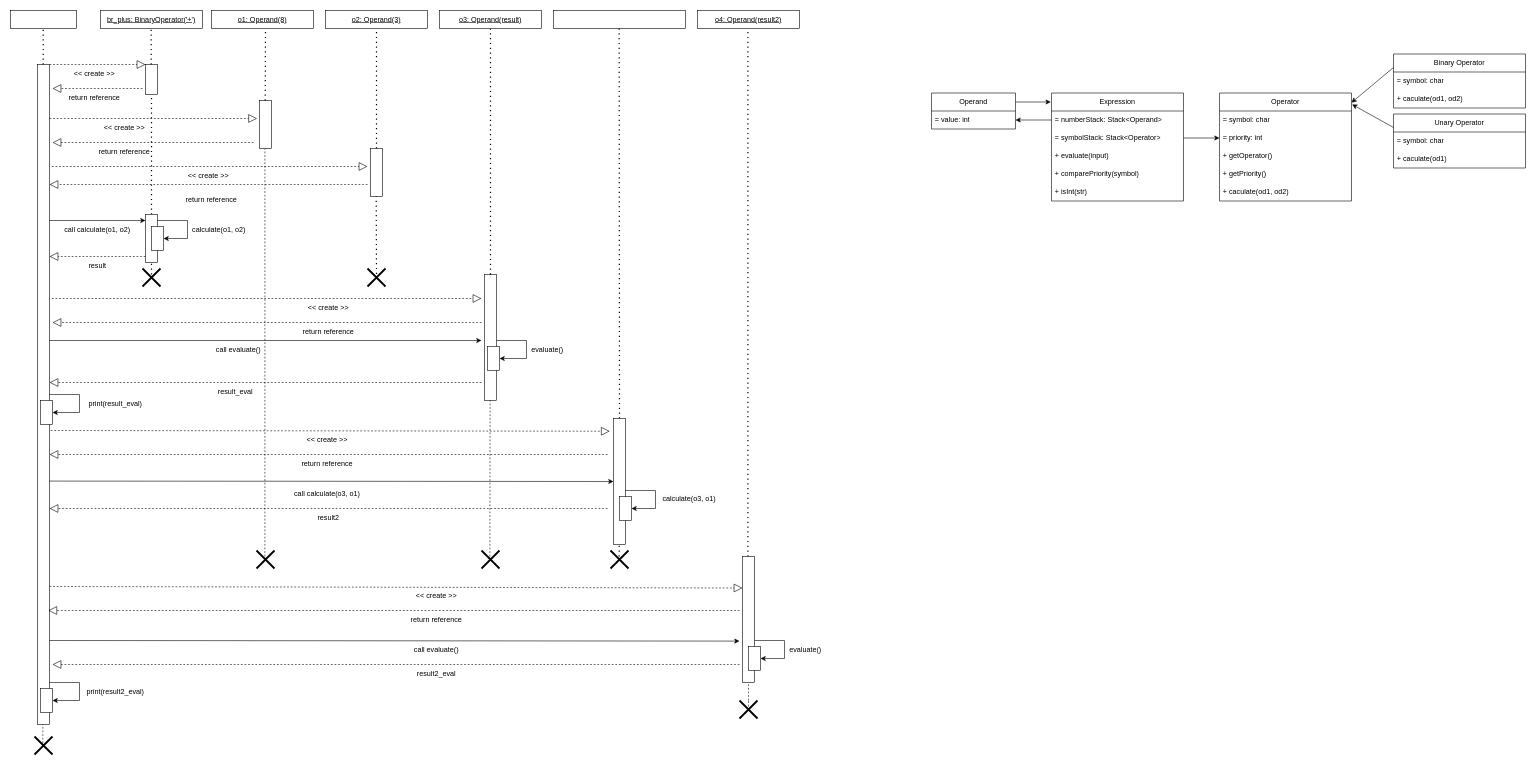
Some shapes in this 1536 by 766 pixel diagram are drawn without their labels. Here are the shapes that lost their labels. From the top down, the centre of each, then its label:
At point 43,19: "Actor: Main".
At point 619,19: "br_smallerThan: BinaryOperator('<')".
